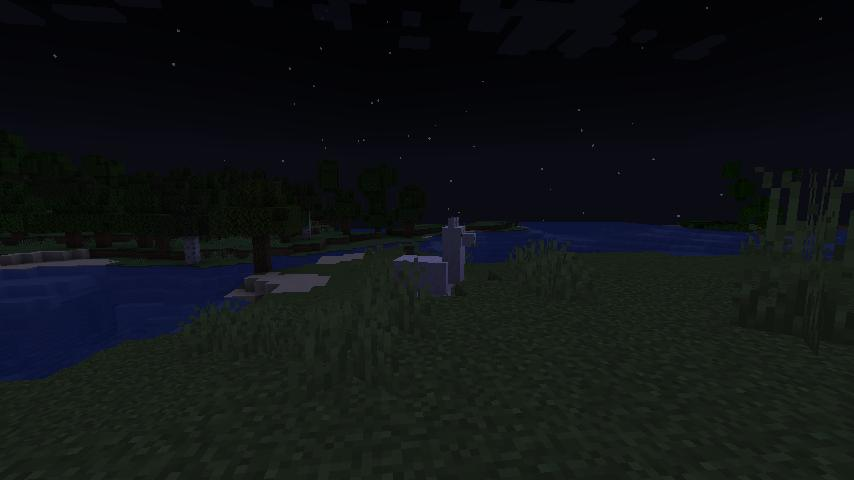llama: (389, 213, 479, 303)
